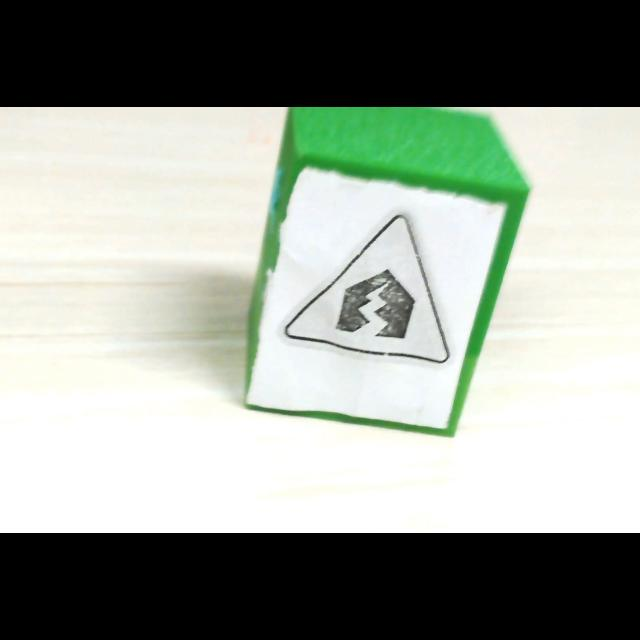Earthquake: (282, 216, 450, 366), (282, 215, 449, 365)
